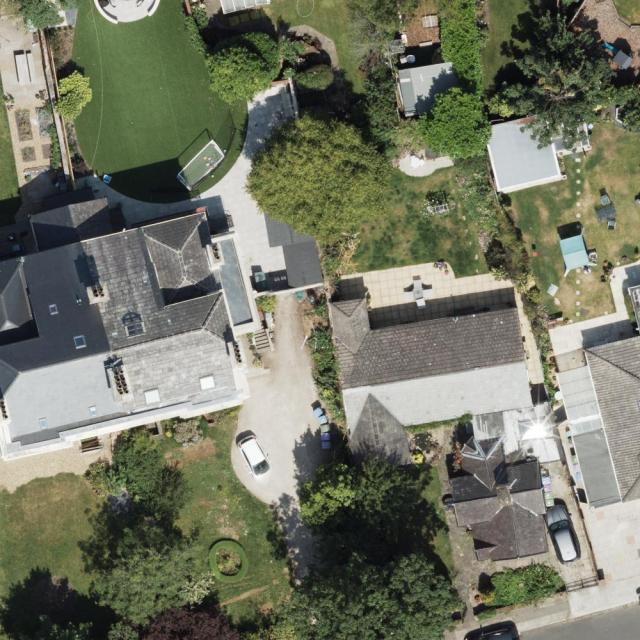roof: (0, 196, 264, 456), (327, 298, 565, 561), (554, 336, 640, 512), (484, 114, 563, 190), (395, 62, 462, 121), (628, 284, 640, 336)
skylight: (515, 416, 556, 442), (125, 319, 149, 338), (144, 386, 162, 408), (201, 372, 216, 394), (73, 333, 88, 352), (35, 417, 50, 433), (88, 405, 99, 415)
